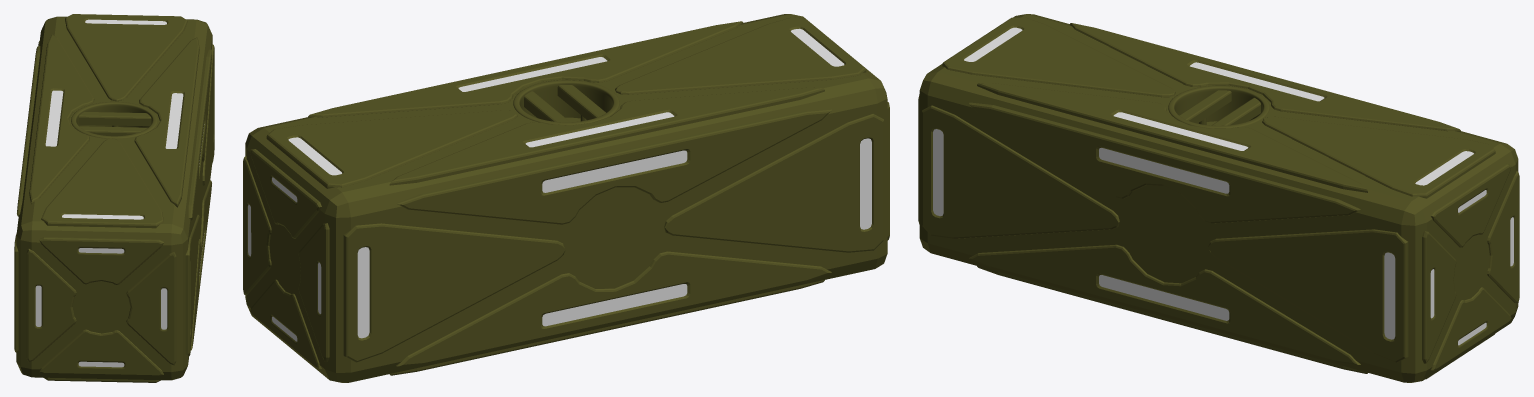
The model's file is Crate_big.fbx.
3 renders of one model, left to right at view 1: azimuth 30°, elevation 25°; view 2: azimuth 150°, elevation 25°; view 3: azimuth 270°, elevation 25°, orthographic. The views are drawn at different scales.
Visible parts, largest first — view 1: Crate Long; view 2: Crate Long; view 3: Crate Long.
Part boxes in pixels (bbox=[...]): Crate Long: bbox=[14, 14, 214, 382]; Crate Long: bbox=[243, 14, 889, 382]; Crate Long: bbox=[918, 14, 1519, 382].
Size of the model in its own units: 483 by 205 by 600.
